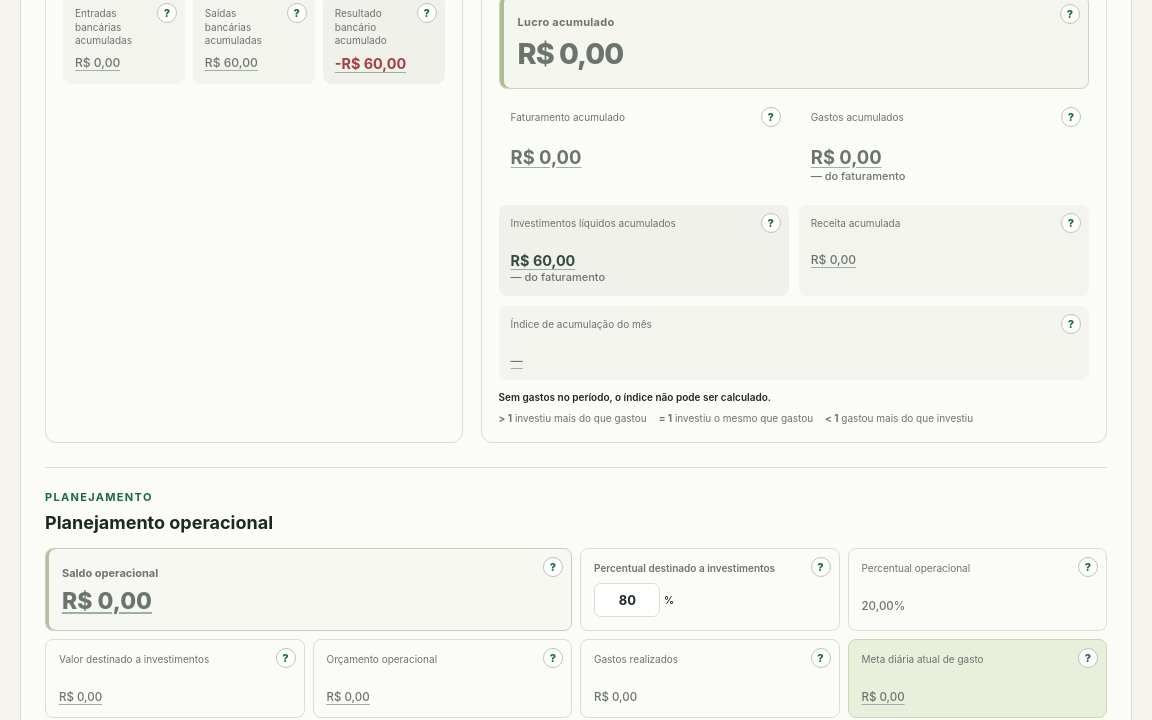
Test: memória de cálculo do índice de acumulação › preserva o estado indisponível quando não existem gastos
(page scrolled)
Click the button "—": click(517, 360) [507,349,527,372]
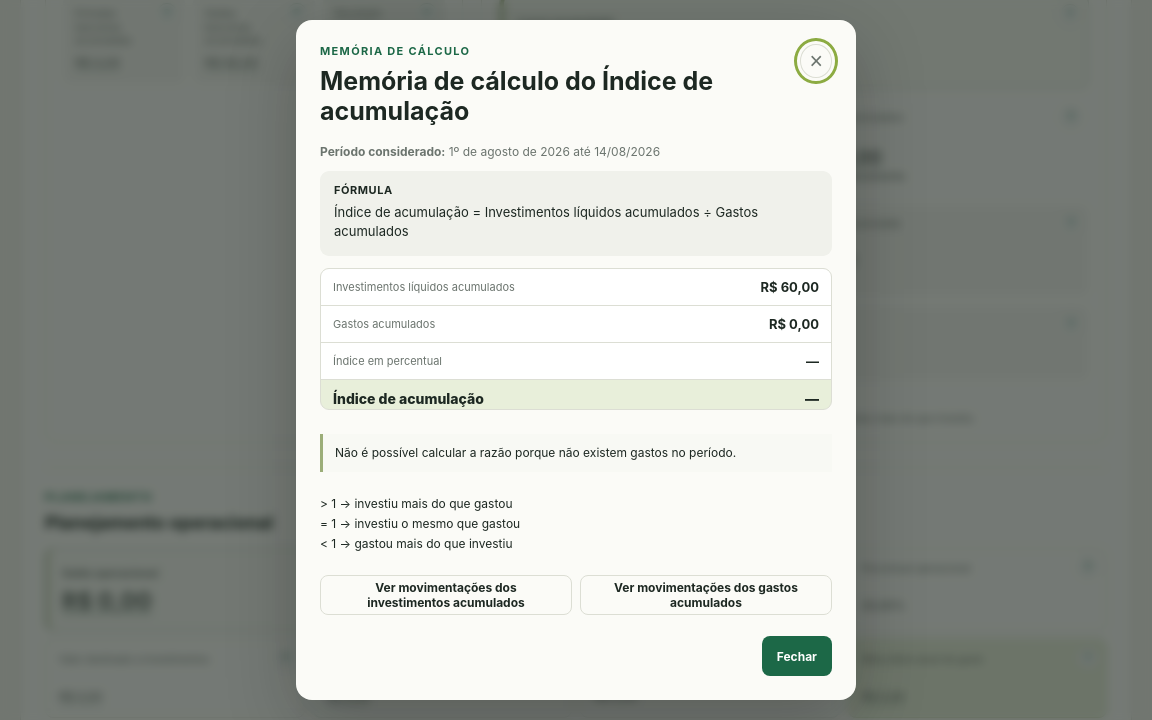
Expected: the dialog shows "não existem gastos no período", [335,445,736,460]
